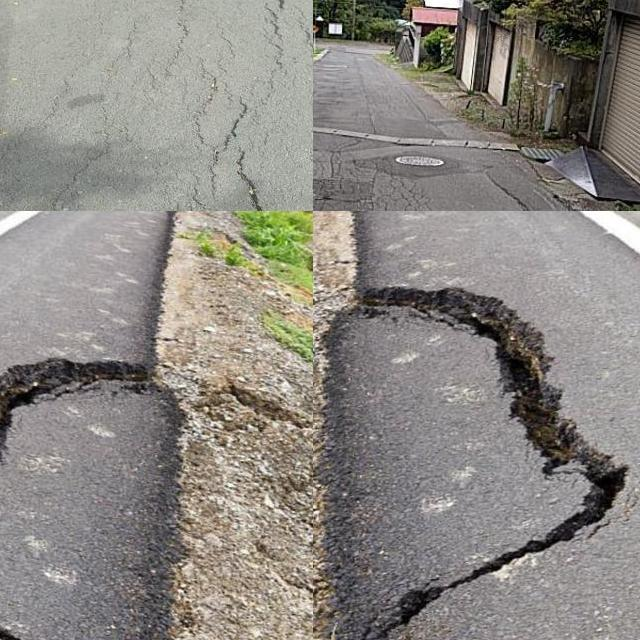Memanjang: (221, 98, 273, 211)
Pinggir: (313, 276, 640, 640), (0, 352, 179, 640)
